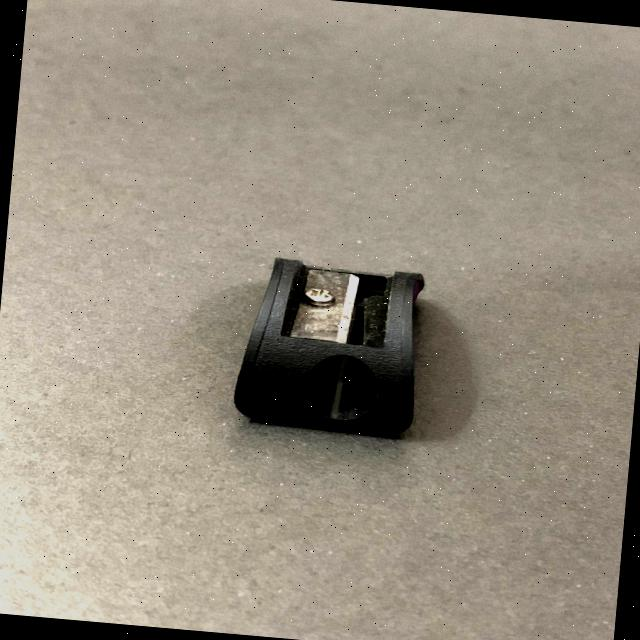Sharpner: (189, 226, 467, 462)
